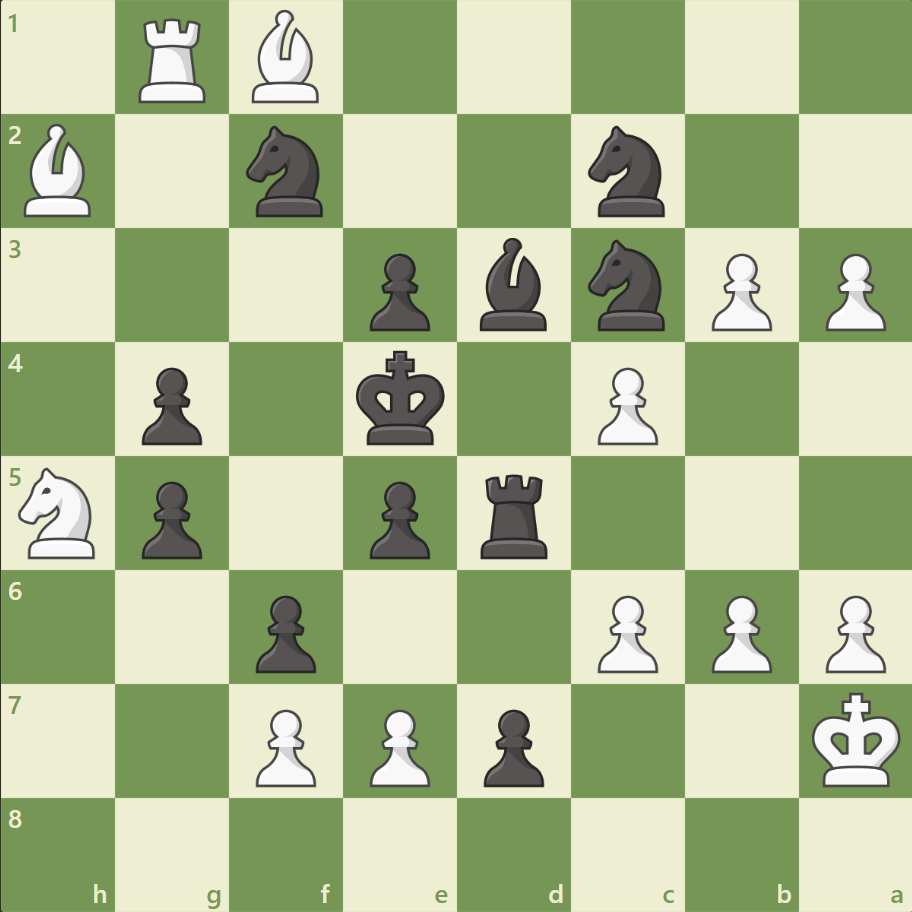B: (244, 6, 328, 109), (17, 120, 101, 222)
K: (806, 685, 906, 793)
N: (11, 461, 108, 564)
P: (247, 700, 322, 791), (701, 586, 776, 677), (701, 246, 776, 337), (361, 700, 435, 791), (815, 586, 889, 677), (588, 586, 662, 677), (588, 359, 662, 450), (815, 246, 889, 337)
R: (133, 12, 215, 109)
b: (471, 233, 555, 336)
k: (351, 344, 451, 452)
n: (579, 234, 676, 337), (579, 121, 676, 223), (238, 121, 335, 223)
p: (474, 700, 549, 791), (247, 586, 322, 677), (133, 473, 208, 564), (133, 359, 208, 450), (361, 473, 435, 564), (361, 246, 435, 337)
r: (473, 466, 556, 563)
